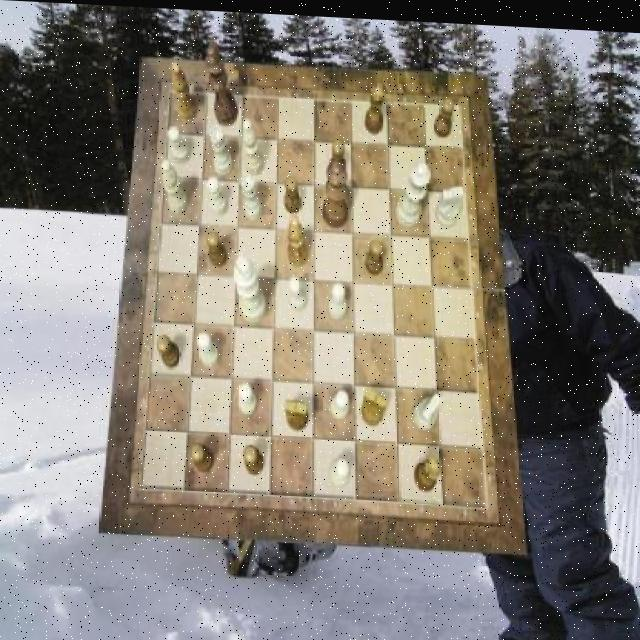bishop: (171, 59, 195, 120), (286, 211, 306, 265)
black-bishop: (206, 38, 238, 124)
black-king: (360, 382, 386, 422), (284, 396, 308, 428)
black-knight: (157, 332, 180, 367), (434, 95, 454, 135), (206, 228, 226, 265), (243, 440, 264, 472), (365, 235, 383, 272), (284, 173, 301, 212), (329, 137, 346, 176), (190, 441, 212, 470)
black-pawn: (322, 158, 348, 226)
black-queen: (363, 80, 383, 133), (414, 451, 442, 488)
black-rook: (160, 157, 188, 212), (242, 116, 265, 173)
white-bishop: (233, 253, 266, 322)
white-king: (434, 179, 463, 223), (412, 388, 442, 426)
white-knight: (166, 124, 189, 162), (196, 330, 219, 365), (206, 175, 226, 214), (238, 380, 257, 414), (329, 279, 346, 316), (289, 274, 306, 309), (330, 387, 349, 417), (330, 455, 349, 483)
white-pawn: (394, 156, 429, 223)
white-queen: (239, 170, 262, 218), (210, 124, 232, 174)
